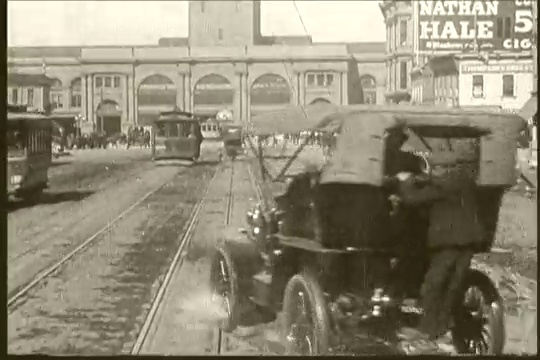car: (183, 85, 508, 348)
